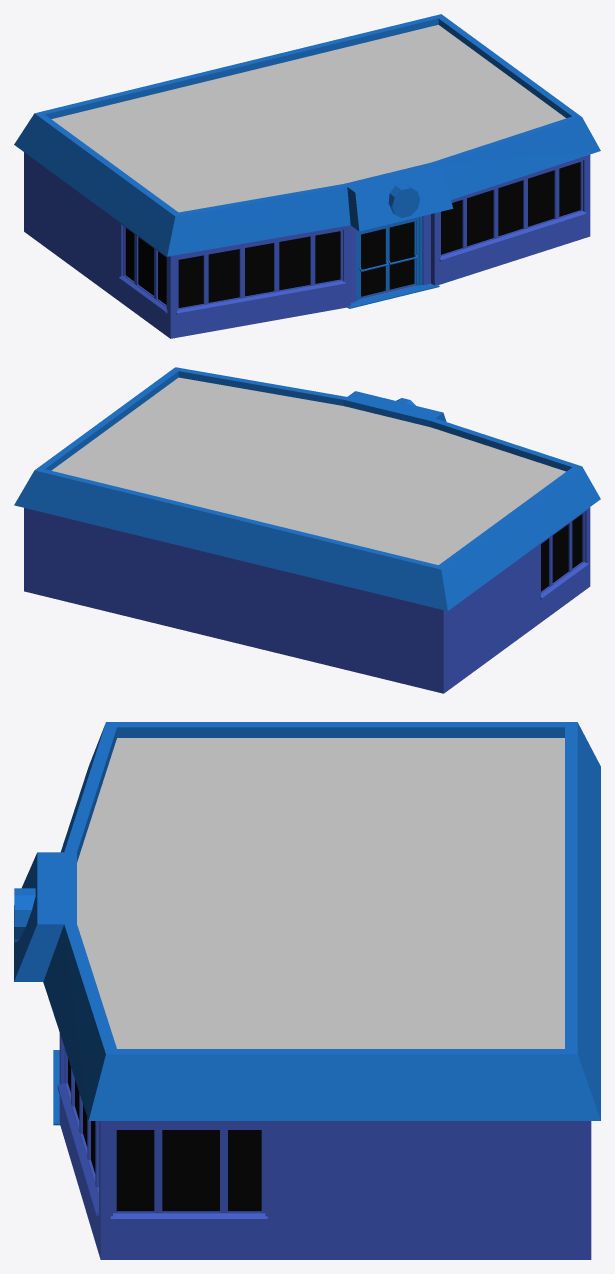
The model's file is SM_pizzeria.fbx.
3 renders of one model, top to bottom at view 1: azimuth 30°, elevation 25°; view 2: azimuth 150°, elevation 25°; view 3: azimuth 270°, elevation 25°, orthographic. The views are drawn at different scales.
Visible parts, largest first — view 1: Cylinder, Cube; view 2: Cylinder, Cube; view 3: Cylinder, Cube.
Part boxes in pixels (x1,y1,x2,y2): Cylinder: (14, 14, 600, 256); Cube: (24, 152, 590, 338); Cylinder: (14, 367, 600, 610); Cube: (24, 507, 590, 693); Cylinder: (14, 722, 600, 1120); Cube: (53, 1033, 591, 1259).
Bounding box in the file's own units: 1538 × 405 × 1077.
